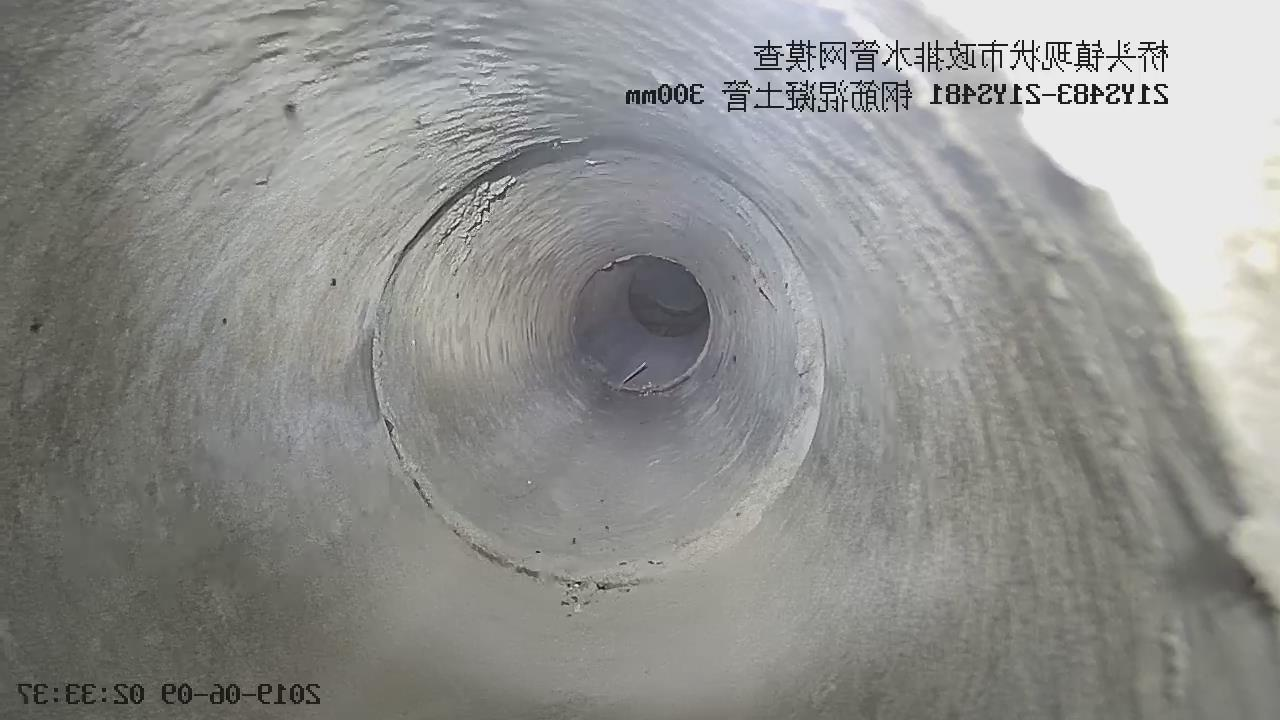CKTJ: (372, 315, 824, 606)
